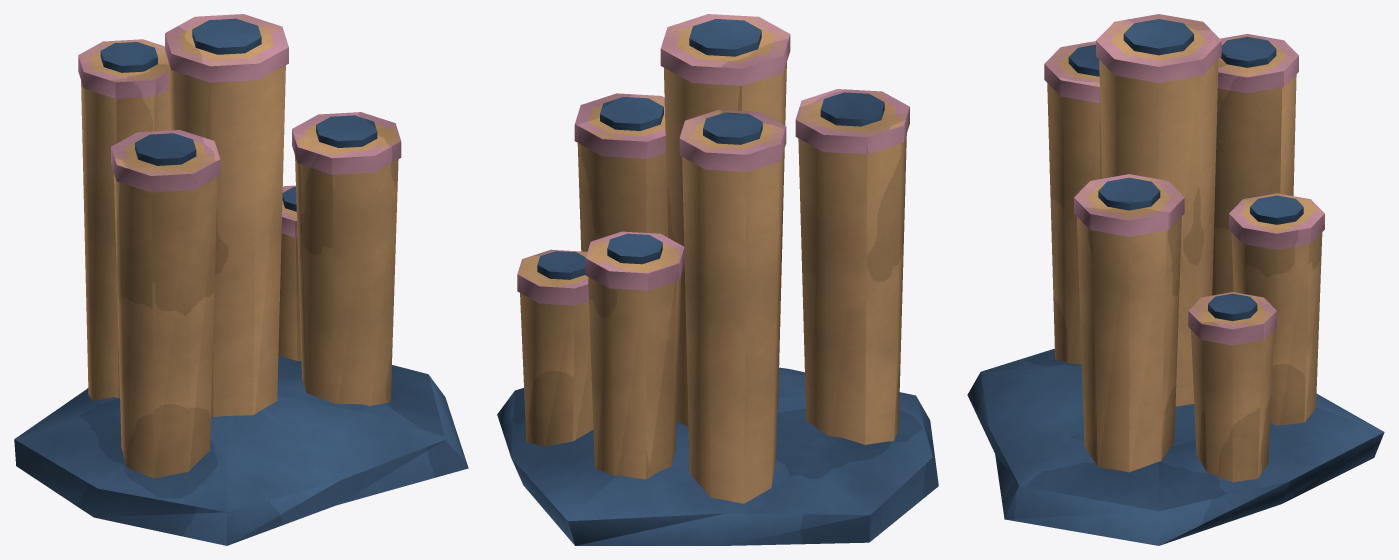
Rendered from tubular_coral.glb.
3 views of the same model, side by side, from view 1: azimuth 30°, elevation 25°; view 2: azimuth 150°, elevation 25°; view 3: azimuth 270°, elevation 25° (orthographic). The views are drawn at different scales.
Visible parts, largest first — view 1: DL006_TubularCoral_coral_orange, DL006_TubularCoral_shadow_blue, DL006_TubularCoral_coral_pink; view 2: DL006_TubularCoral_coral_orange, DL006_TubularCoral_shadow_blue, DL006_TubularCoral_coral_pink; view 3: DL006_TubularCoral_coral_orange, DL006_TubularCoral_shadow_blue, DL006_TubularCoral_coral_pink.
Boxes of the visible parts, left/top/right/bottom form: DL006_TubularCoral_coral_orange: left=80, top=15, right=398, bottom=478; DL006_TubularCoral_shadow_blue: left=14, top=18, right=468, bottom=545; DL006_TubularCoral_coral_pink: left=78, top=14, right=401, bottom=237; DL006_TubularCoral_coral_orange: left=519, top=16, right=906, bottom=503; DL006_TubularCoral_shadow_blue: left=497, top=19, right=938, bottom=545; DL006_TubularCoral_coral_pink: left=517, top=14, right=909, bottom=305; DL006_TubularCoral_coral_orange: left=1047, top=15, right=1322, bottom=482; DL006_TubularCoral_shadow_blue: left=967, top=19, right=1384, bottom=545; DL006_TubularCoral_coral_pink: left=1044, top=14, right=1324, bottom=345.
Bounding box in the file's own units: 1.51 × 1.64 × 1.41.
3 materials, 3 textured.
